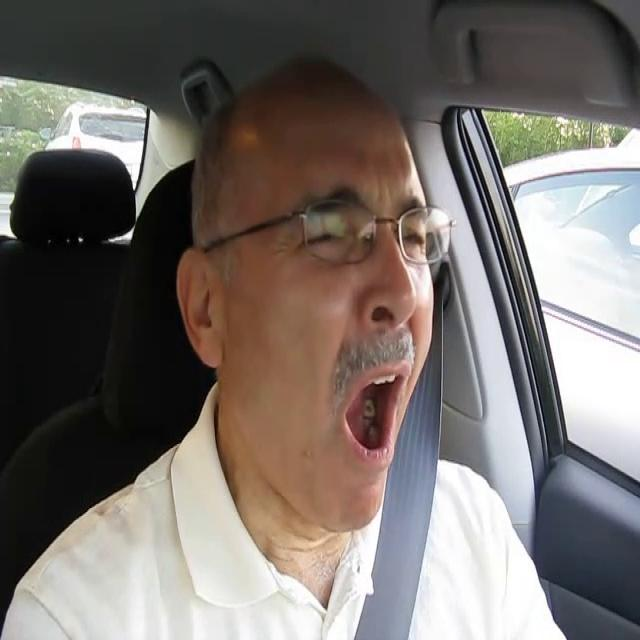yawn: (339, 362, 411, 472)
